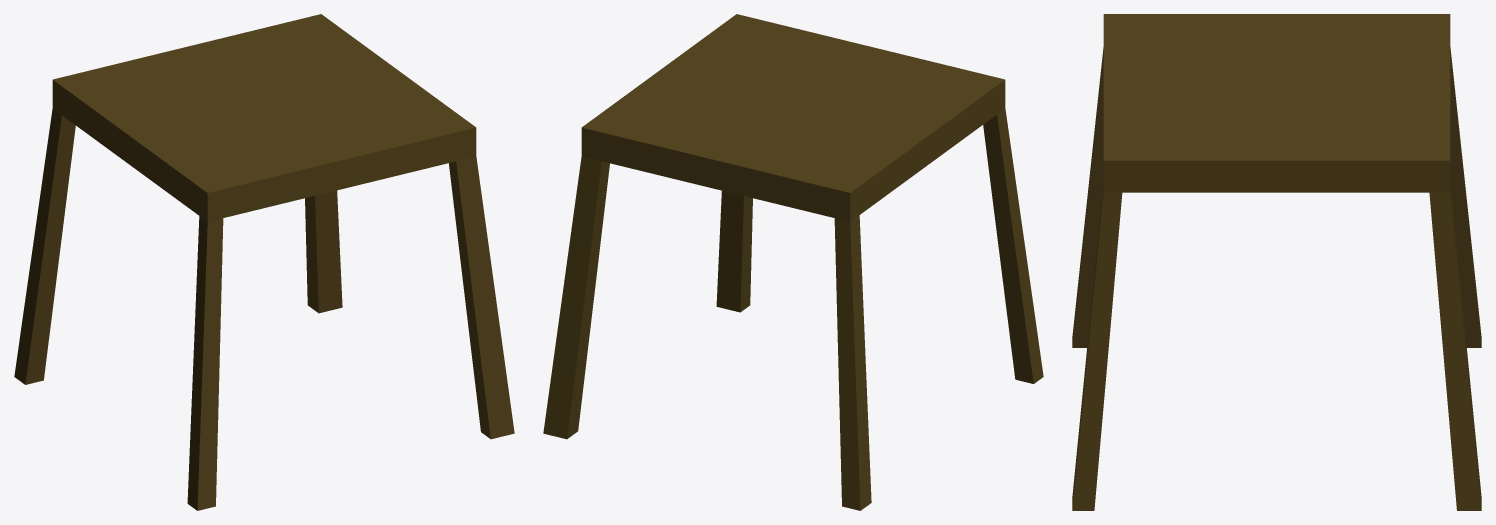
File: SM_Desk_02.fbx
3 views of the same model, side by side, from view 1: azimuth 30°, elevation 25°; view 2: azimuth 150°, elevation 25°; view 3: azimuth 270°, elevation 25° (orthographic). The views are drawn at different scales.
Parts seen in each view (by area): view 1: Desk_02; view 2: Desk_02; view 3: Desk_02.
Boxes of the visible parts, x1,y1,x2,y2 form: Desk_02: [14, 14, 514, 510]; Desk_02: [543, 14, 1043, 510]; Desk_02: [1072, 14, 1481, 510].
Size of the model in its own units: 116 by 105 by 116.
